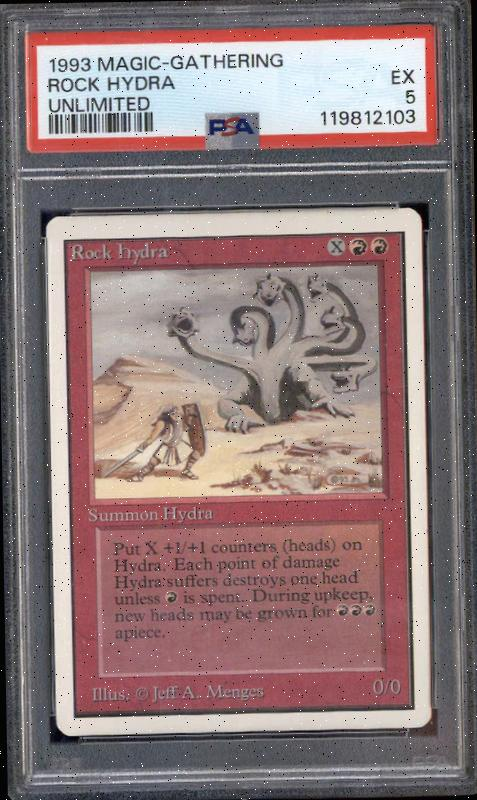card-2UtV: (45, 208, 431, 736)
